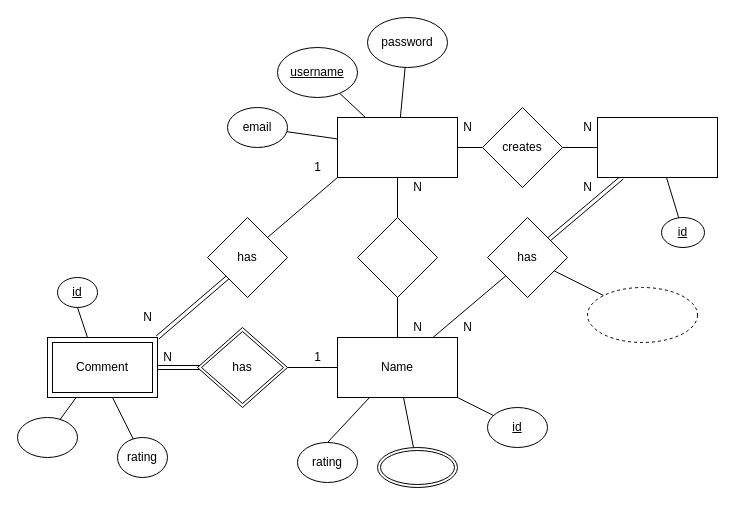
Some shapes in this 735 by 505 pixel diagram are drawn without their labels. The centre of each missing label's shape, as x and y in pixels:
"Account" belongs at pixel 397 147.
"create" belongs at pixel 397 257.
"Gender" belongs at pixel 417 467.
"nr of names with tag" belongs at pixel 642 314.
"Tag" belongs at pixel 657 147.
"text" belongs at pixel 47 437.
